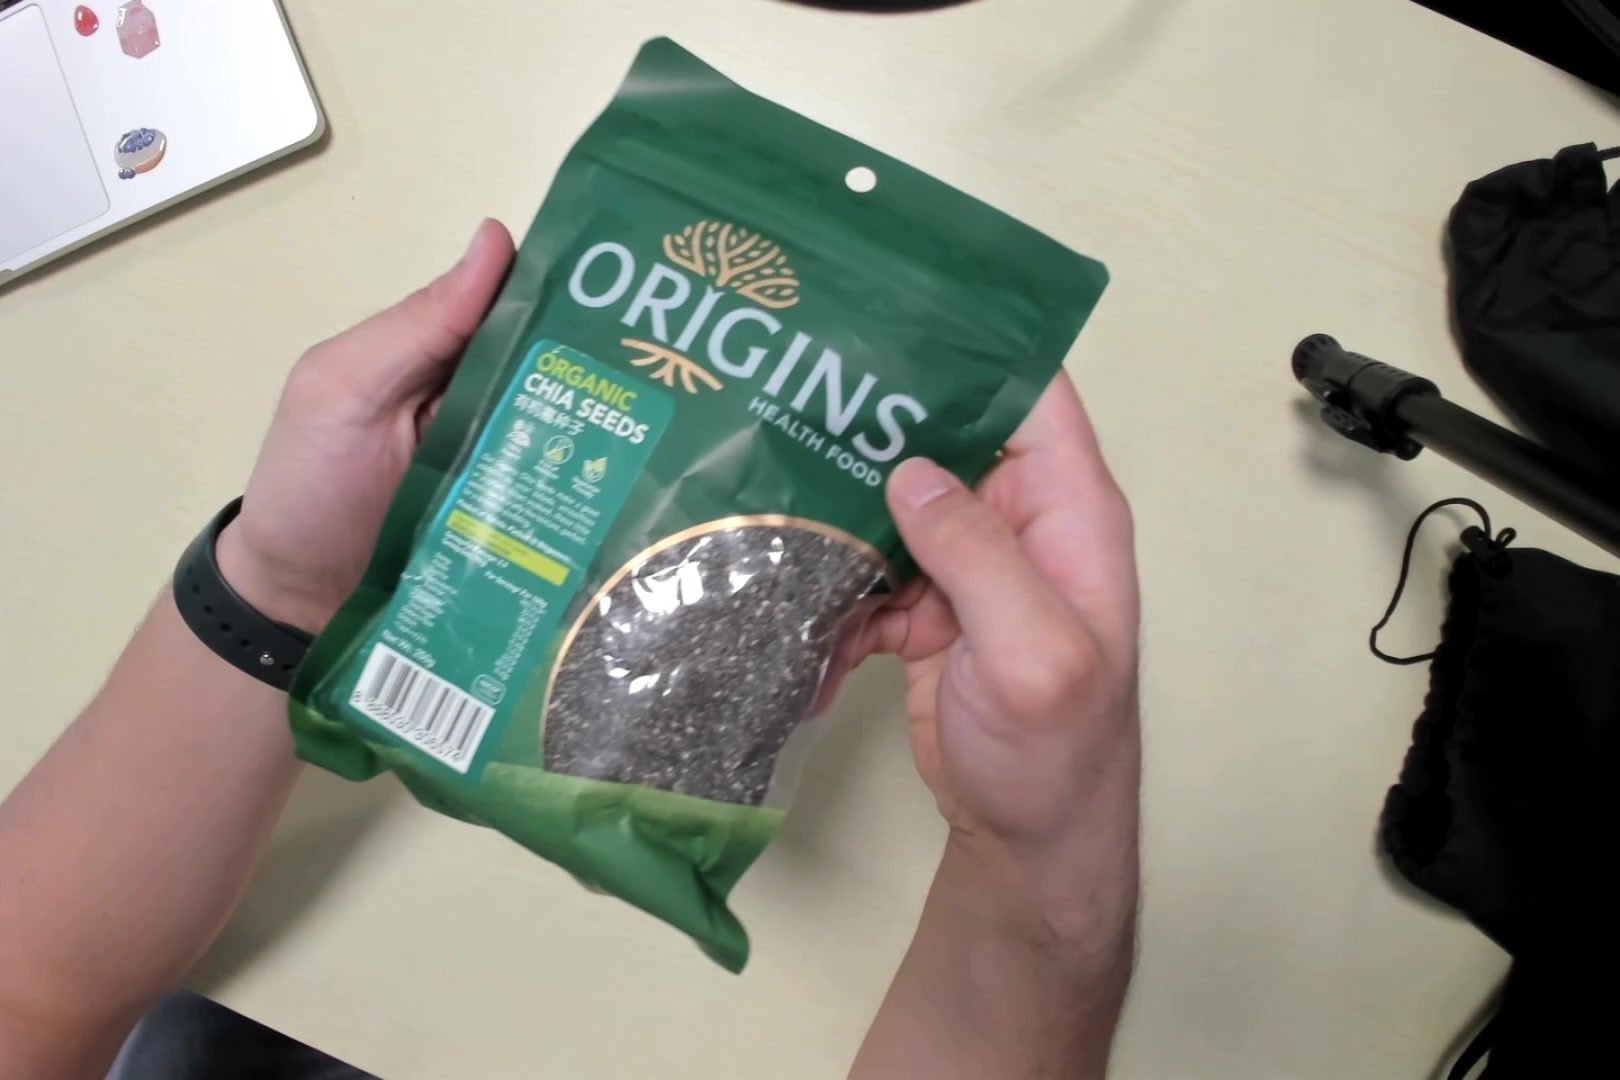OtherDriedFood_200-299g_NonHalal_NonHealthy: (334, 80, 1105, 931)
